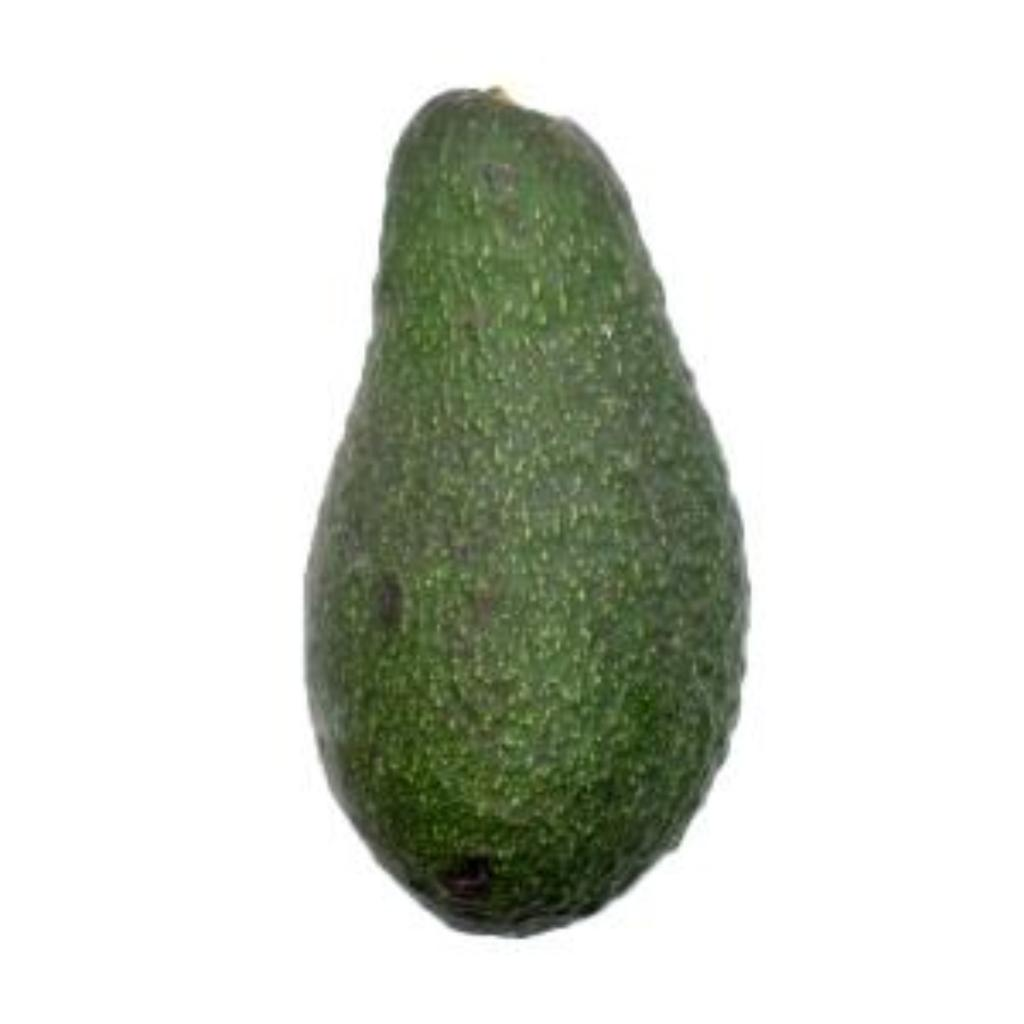cercospora: (287, 75, 761, 939)
